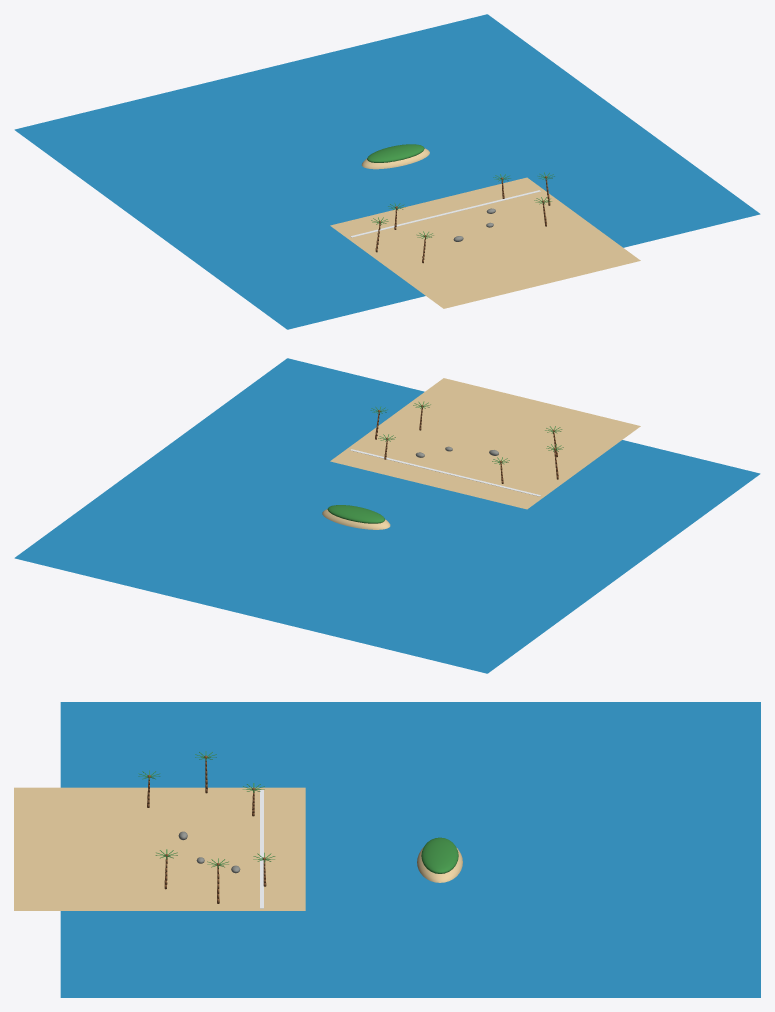
The model's file is island.glb.
The picture shows the model from 3 angles, top to bottom: view 1: azimuth 30°, elevation 25°; view 2: azimuth 150°, elevation 25°; view 3: azimuth 270°, elevation 25°; orthographic projection. The views are drawn at different scales.
Parts seen in each view (by area): view 1: Ocean, Beach, DistantIslandGreen; view 2: Ocean, Beach, DistantIslandGreen; view 3: Ocean, Beach, DistantIslandGreen, DistantIsland.
Boxes of the visible parts, x1,y1,x2,y2 form: Ocean: (14,14,760,329); Beach: (330,177,640,308); DistantIslandGreen: (367,144,424,162); Ocean: (14,358,760,673); Beach: (330,378,640,509); DistantIslandGreen: (327,505,385,523); Ocean: (60,702,760,997); Beach: (14,787,305,910); DistantIslandGreen: (421,837,458,873); DistantIsland: (417,847,462,882).
Size of the model in its own units: 120 by 10.18 by 128.
